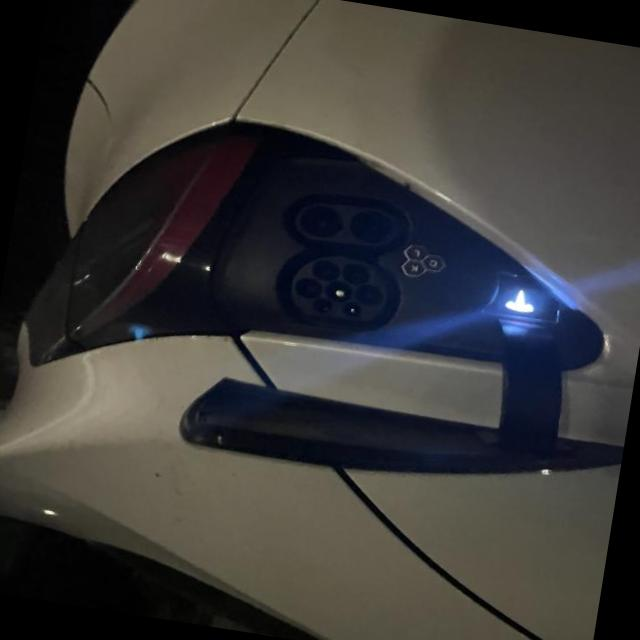inlet: (291, 255, 387, 320)
inlet-above-left: (342, 301, 361, 316)
inlet-above-right: (312, 297, 332, 312)
inlet-below-left: (341, 263, 369, 283)
inlet-below-right: (312, 259, 339, 280)
inlet-center: (324, 280, 351, 301)
inlet-center-left: (355, 285, 381, 305)
inlet-center-right: (295, 277, 322, 298)
